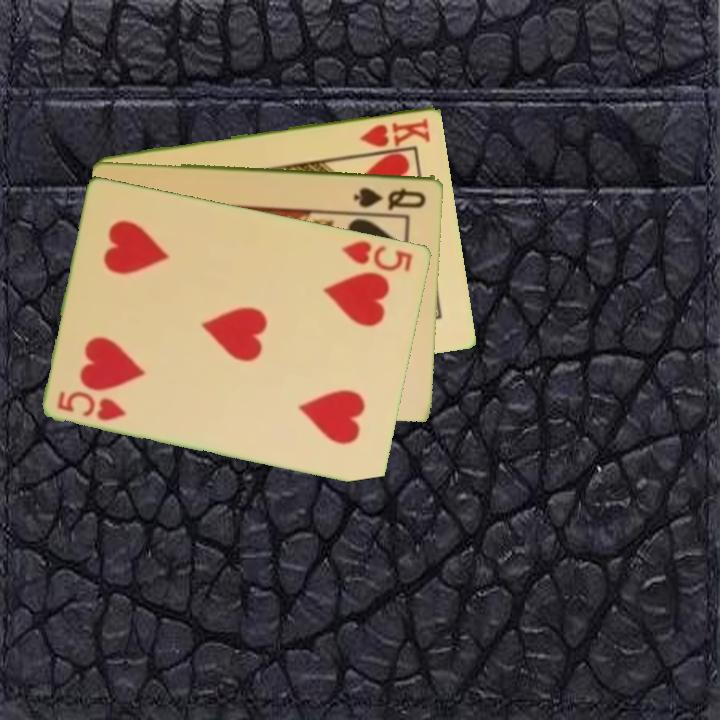5h: (339, 236, 416, 274), (54, 387, 130, 423)
Kh: (356, 114, 434, 150)
Qs: (351, 184, 429, 211)
